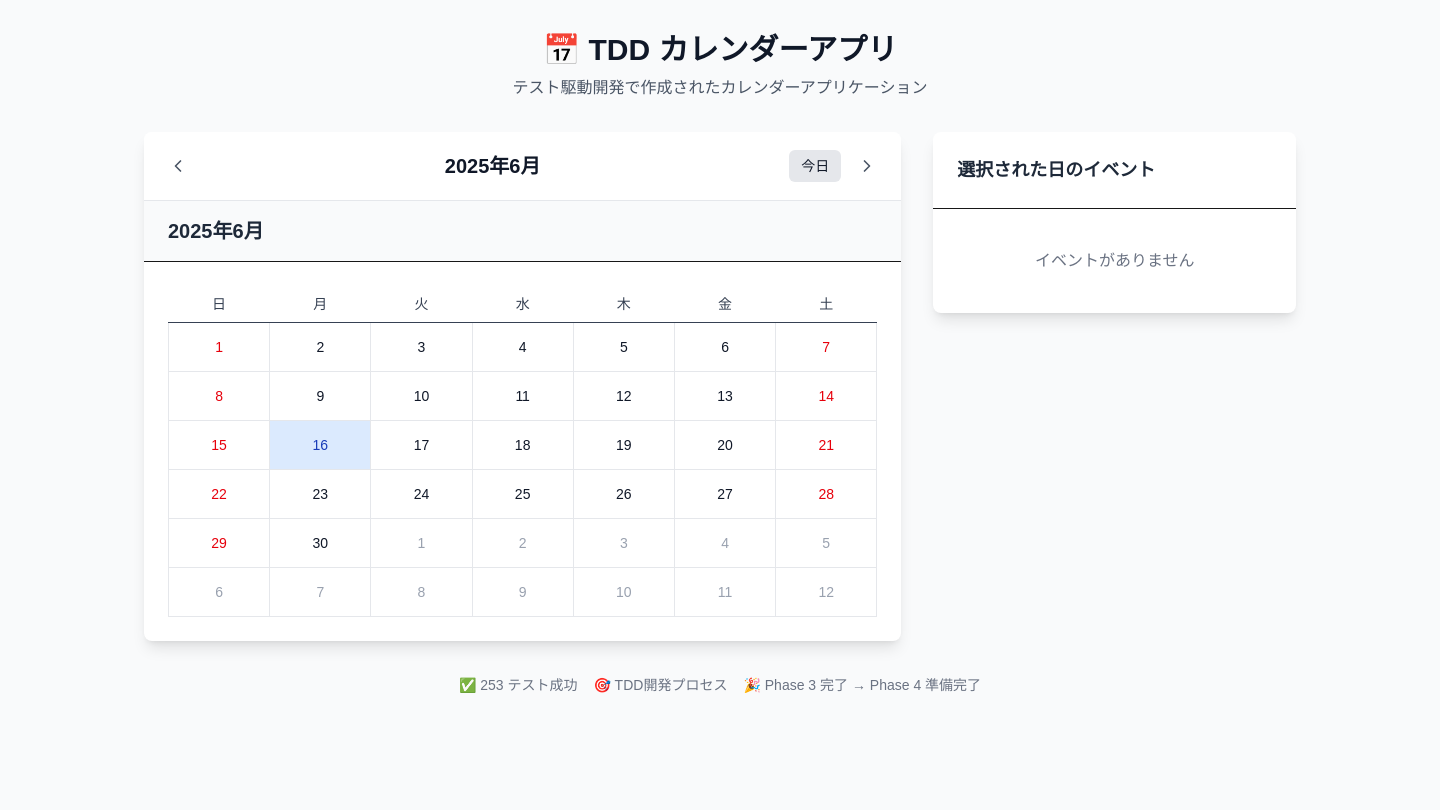
CalendarApp Integration › 月移動機能 › 次月ボタンで月が変更される
The image size is (1440, 810).
# 次月ボタンをクリック
Click the button named "次月".
click(867, 166)  # box [849,148,885,184]
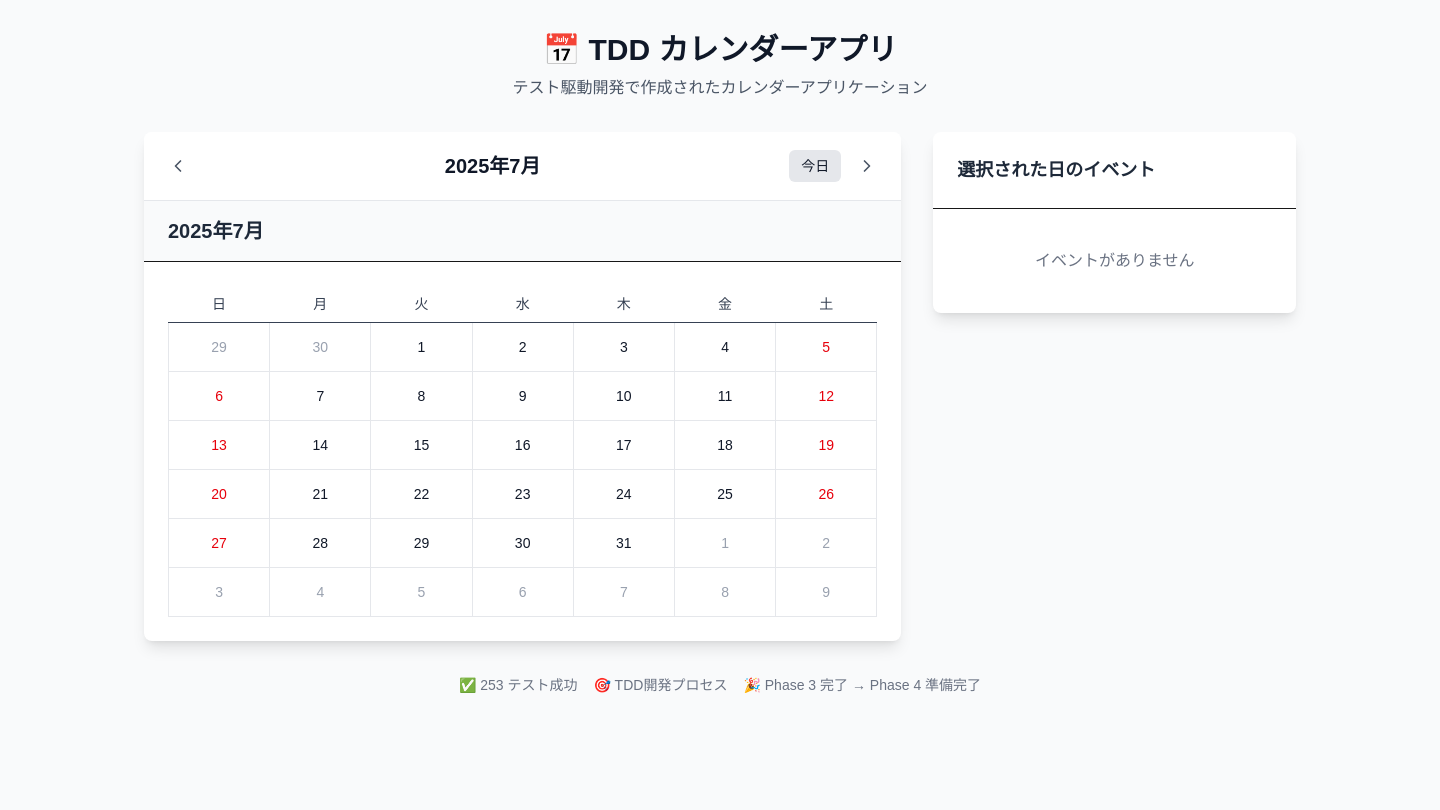
Expected: the 1st heading "2025年7月" is shown, [445,152,540,180]
